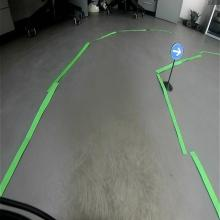right: (171, 42, 183, 61)
